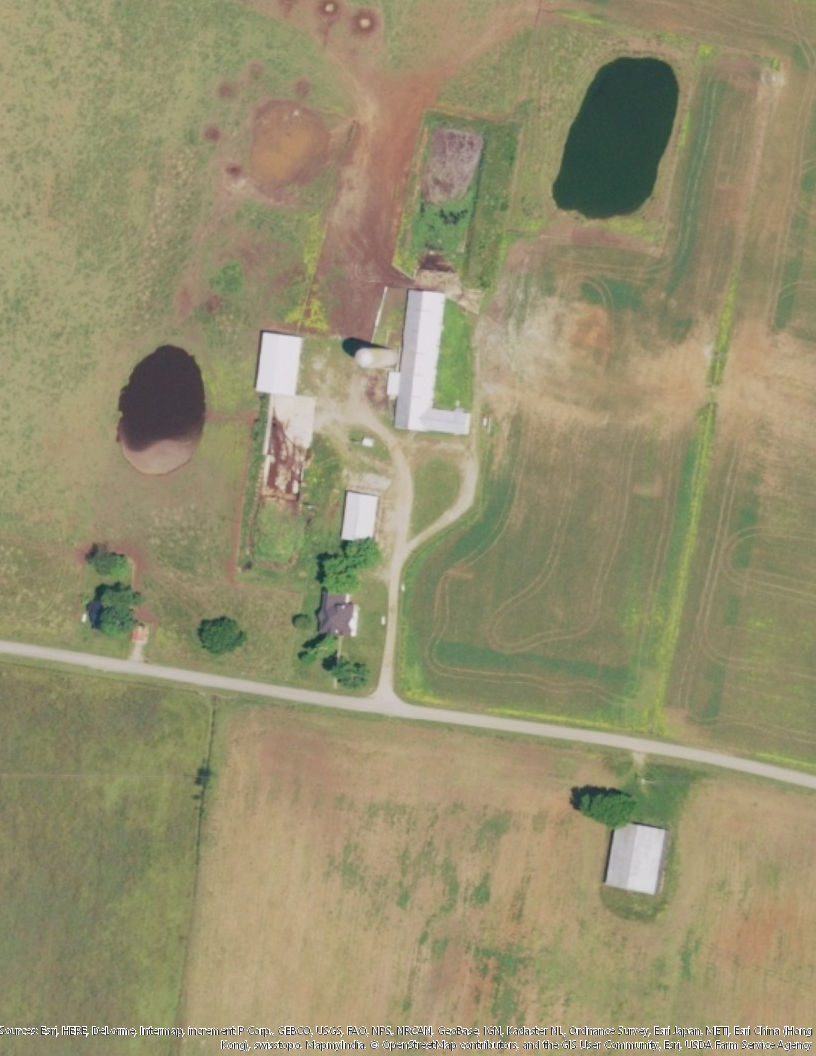cafo: (377, 282, 479, 433)
